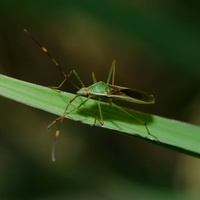insect: (23, 28, 154, 128)
